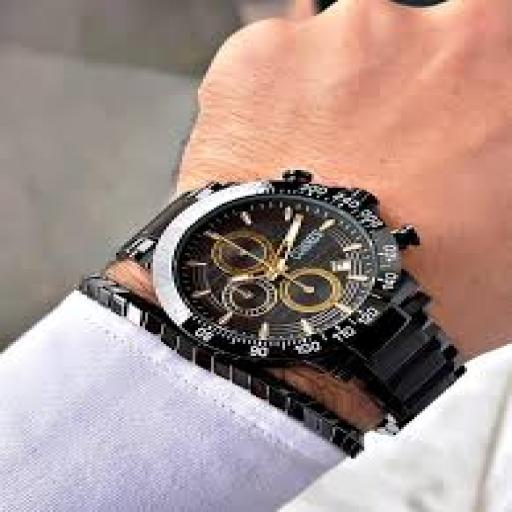KolSaati: (96, 169, 479, 420)
